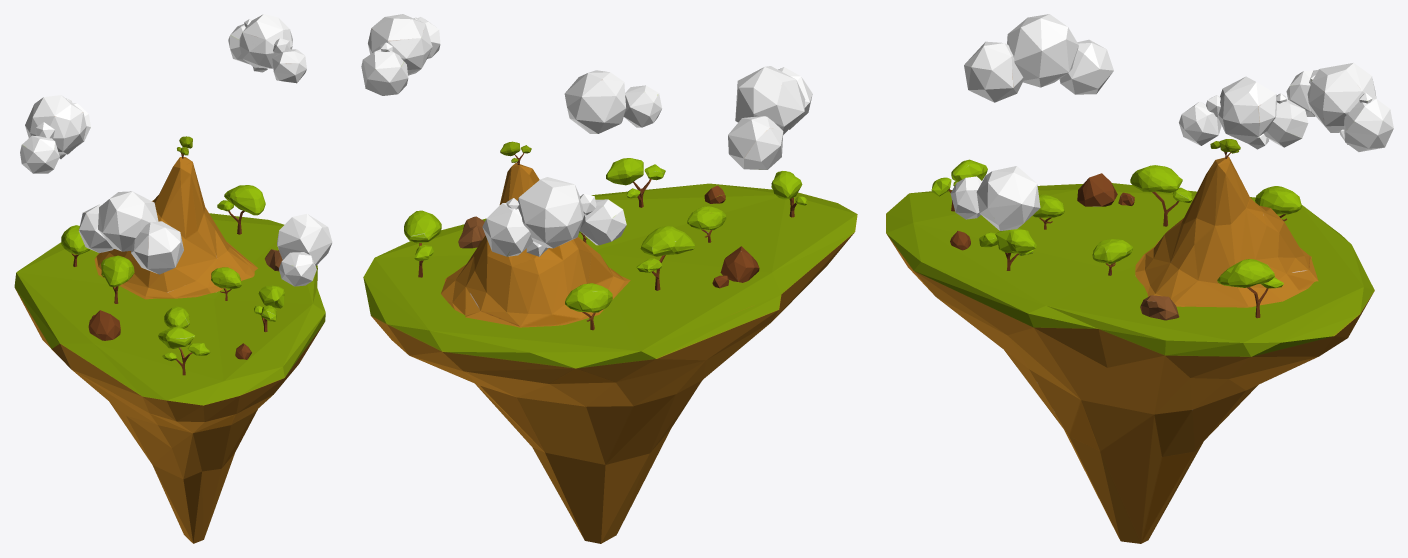
Rendered from Low_Poly_Island.obj.
The picture shows the model from 3 angles, left to right: view 1: azimuth 30°, elevation 25°; view 2: azimuth 150°, elevation 25°; view 3: azimuth 270°, elevation 25°; orthographic projection. The views are drawn at different scales.
Visible parts, largest first — view 1: Island; view 2: Island; view 3: Island.
Boxes of the visible parts, x1,y1,x2,y2 form: Island: [14, 14, 332, 543]; Island: [361, 14, 857, 543]; Island: [886, 14, 1393, 543].
Size of the model in its own units: 76.39 by 113 by 98.72.
